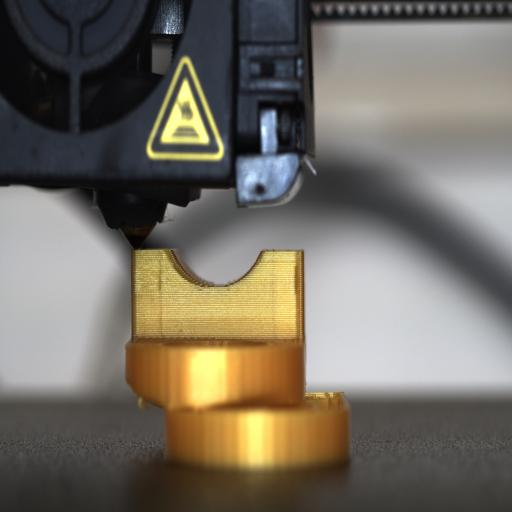layer_shift: (126, 378, 352, 418)
